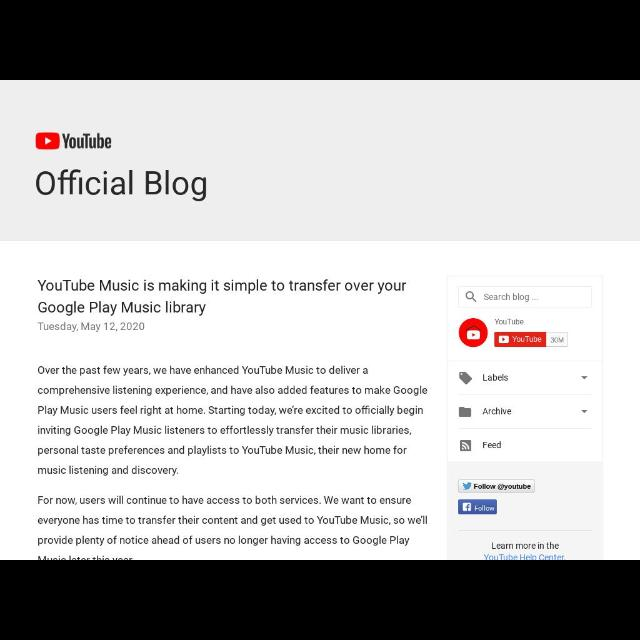button: (458, 318, 488, 348)
icon: (458, 372, 472, 384), (458, 407, 472, 417), (461, 440, 472, 450), (465, 291, 475, 301), (468, 331, 479, 339), (498, 336, 508, 344), (462, 482, 472, 490), (464, 502, 472, 512), (580, 374, 588, 381), (582, 410, 588, 414)
image: (36, 132, 112, 152)
input: (460, 288, 592, 306)
spinner: (448, 392, 602, 428), (450, 362, 602, 393)
text: (38, 365, 428, 477), (36, 495, 426, 559), (38, 278, 406, 314), (36, 170, 208, 202), (483, 542, 567, 558), (38, 322, 144, 334), (474, 482, 532, 492), (484, 292, 530, 302), (482, 408, 512, 418), (512, 334, 542, 344), (481, 374, 509, 384), (494, 318, 524, 327), (481, 441, 501, 451), (474, 506, 496, 512), (552, 336, 564, 344)
textbutton: (460, 478, 534, 492), (459, 500, 497, 514)
